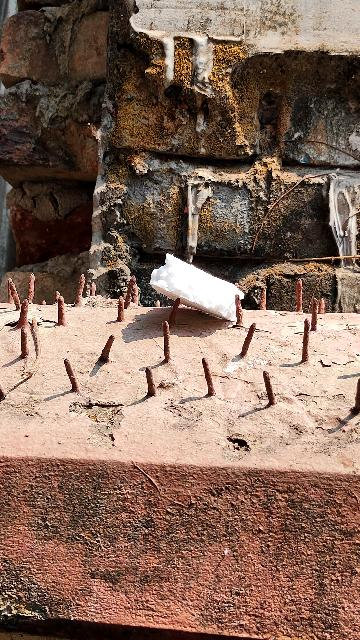cocksheet: (136, 244, 262, 328)
